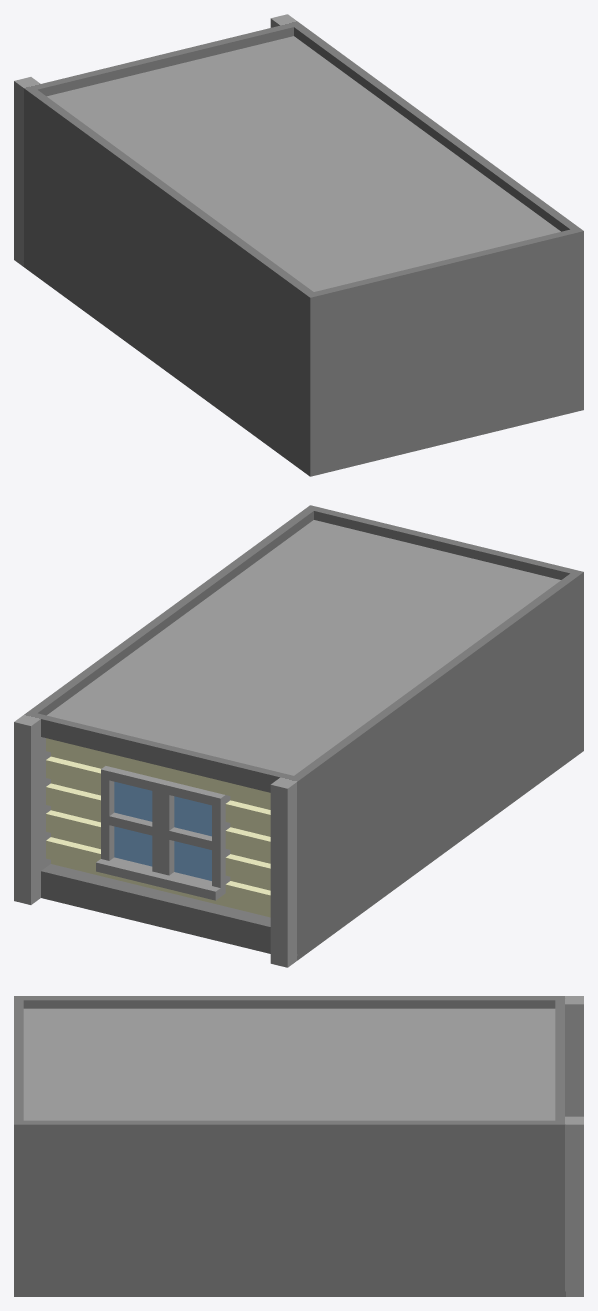
The model's file is obj_story03.fbx.
3 views of the same model, one above another, from view 1: azimuth 30°, elevation 25°; view 2: azimuth 150°, elevation 25°; view 3: azimuth 270°, elevation 25° (orthographic). The views are drawn at different scales.
Parts seen in each view (by area): view 1: obj_story03; view 2: obj_story03; view 3: obj_story03.
Part boxes in pixels (x1,y1,x2,y2): obj_story03: (14, 14, 583, 476); obj_story03: (14, 505, 583, 967); obj_story03: (14, 996, 583, 1296).
Bounding box in the file's own units: 3.2 × 6 × 2.
Materials: 1 (1 with a texture image).
